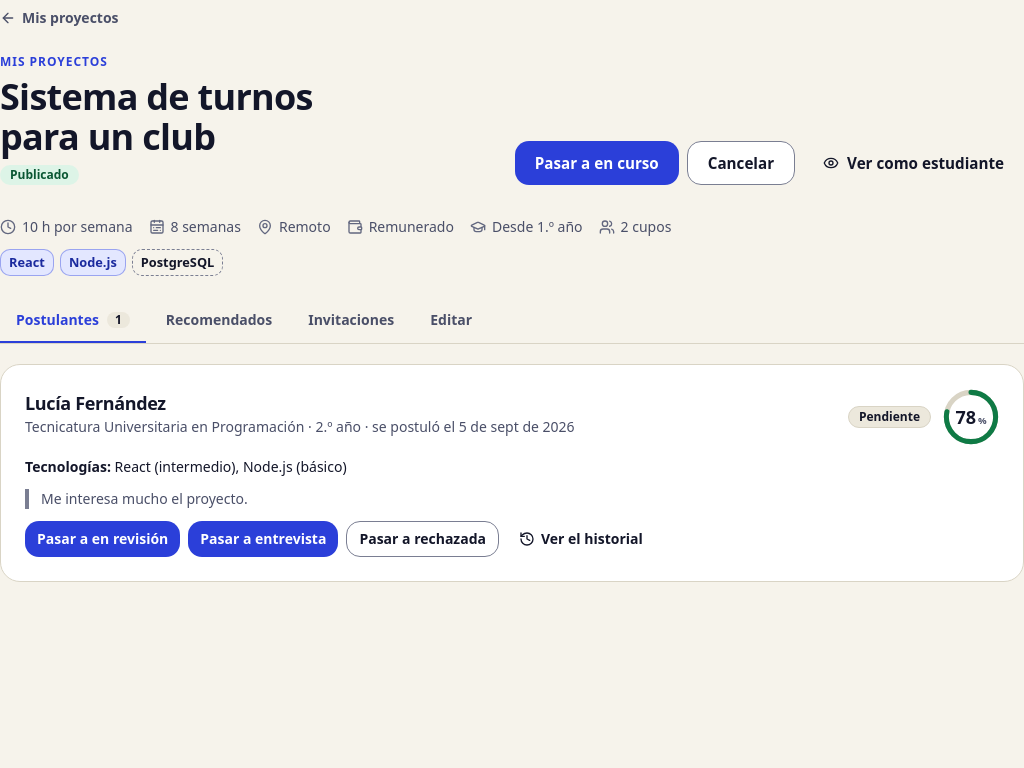
Test: GestionProyectoPage › cambia el estado de una postulación después de confirmar y recarga la lista
The width and height of the screenshot is (1024, 768).
Click the button "Pasar a entrevista". click: (263, 539)
box: [188, 521, 338, 557]
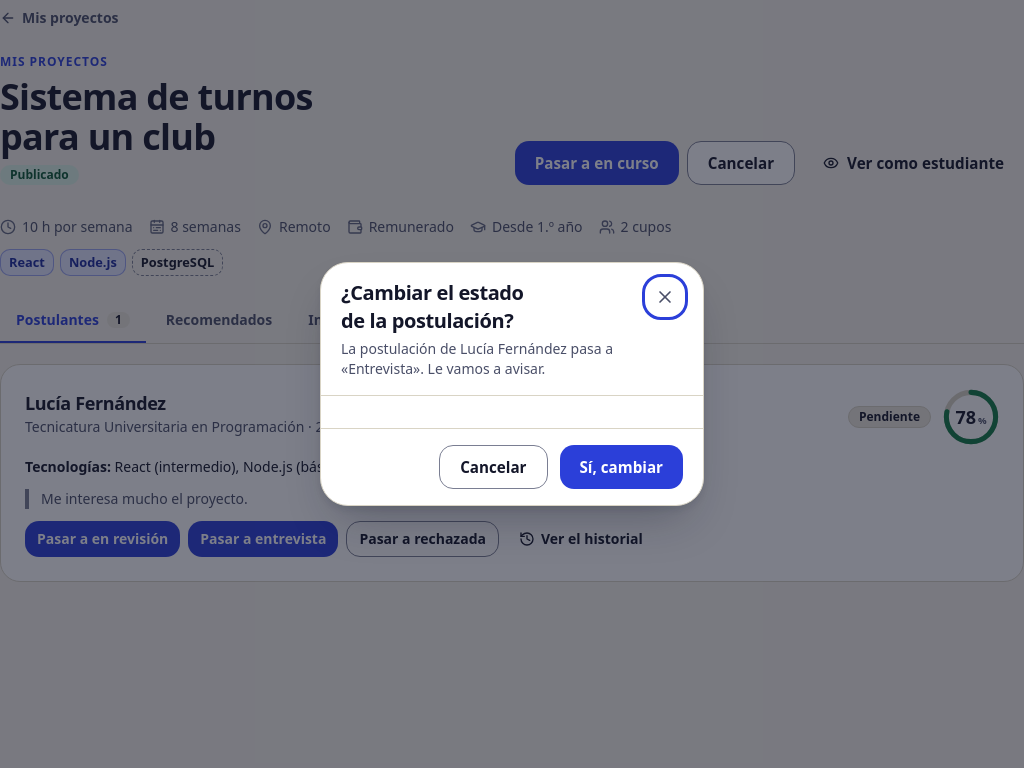
Click the button "Sí, cambiar". click: (621, 467)
box: [560, 445, 683, 489]
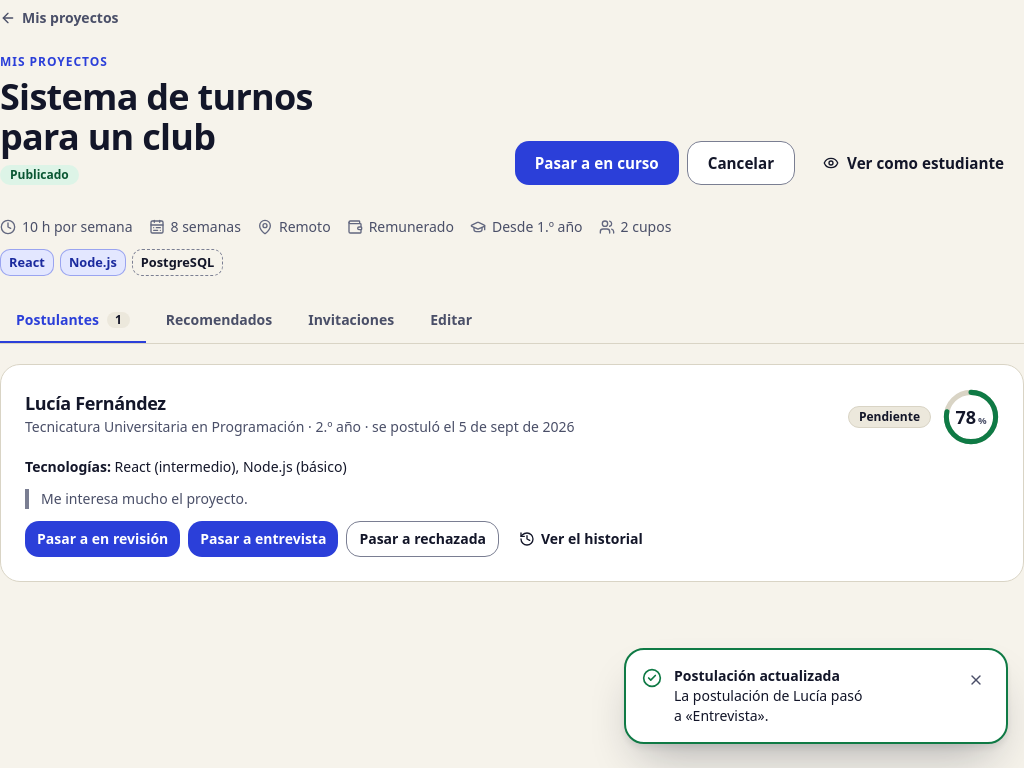
Check: the text "Postulación actualizada" is shown, box [674, 666, 840, 685]
